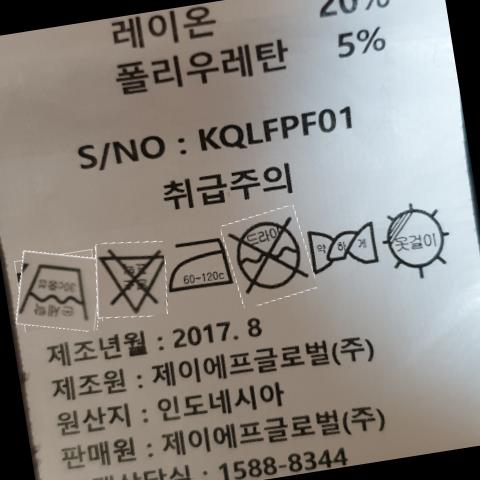DN_dry_clean: (236, 214, 301, 297)
hand_wash: (20, 251, 93, 330)
line_dry_in_shade: (384, 204, 452, 283)
non_chlorine_bleach: (100, 247, 167, 318)
tumble_dry_low: (168, 236, 237, 301)
wring: (308, 221, 382, 281)
